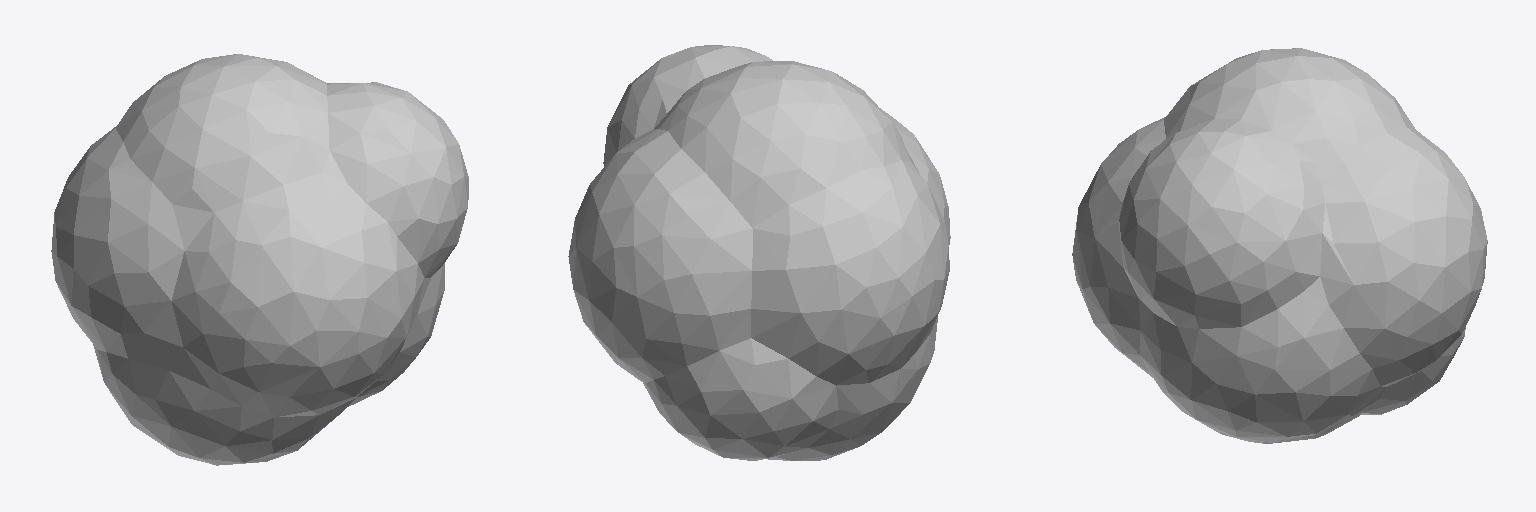
The model's file is dustcloud.obj.
3 renders of one model, left to right at view 1: azimuth 30°, elevation 25°; view 2: azimuth 150°, elevation 25°; view 3: azimuth 270°, elevation 25°, orthographic.
Parts seen in each view (by area): view 1: Virtual_Juli_2019-12-22_12-36-45; view 2: Virtual_Juli_2019-12-22_12-36-45; view 3: Virtual_Juli_2019-12-22_12-36-45.
Part boxes in pixels (bbox=[...]): Virtual_Juli_2019-12-22_12-36-45: bbox=[51, 54, 468, 465]; Virtual_Juli_2019-12-22_12-36-45: bbox=[568, 45, 950, 460]; Virtual_Juli_2019-12-22_12-36-45: bbox=[1072, 48, 1487, 443].
Bounding box in the file's own units: 0.1657 × 0.1712 × 0.1708.